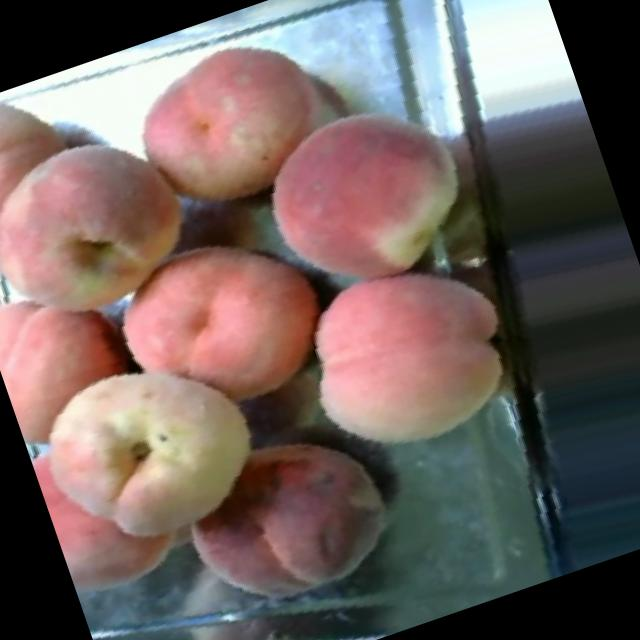Fruit: (4, 309, 300, 603), (79, 192, 360, 450), (276, 230, 542, 483), (148, 396, 420, 640), (232, 73, 494, 317), (0, 96, 228, 365), (106, 10, 352, 242), (0, 254, 155, 465)
